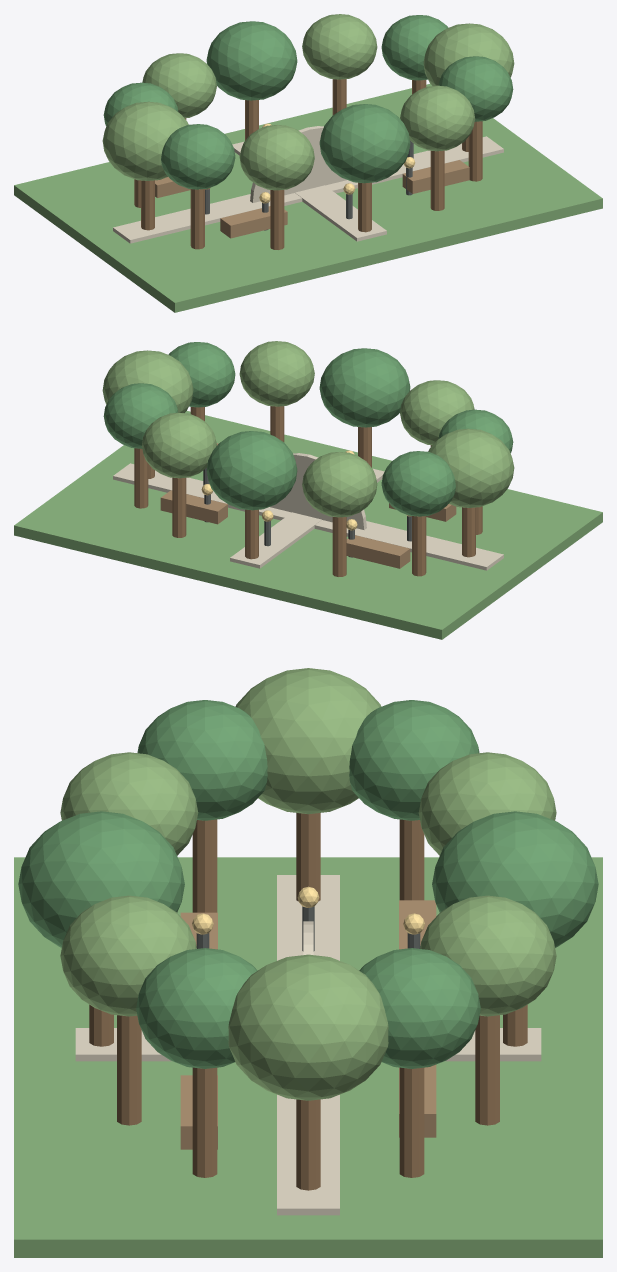
File: central-park.glb
The picture shows the model from 3 angles, top to bottom: view 1: azimuth 30°, elevation 25°; view 2: azimuth 150°, elevation 25°; view 3: azimuth 270°, elevation 25°; orthographic projection. The views are drawn at different scales.
Parts seen in each view (by area): view 1: world, lawn, main_path, cross_path, trunk5, trunk2, trunk4, trunk1, trunk6, trunk3, trunk10, trunk9; view 2: world, lawn, main_path, cross_path, trunk7, trunk8, trunk10, trunk11, trunk6, trunk9, trunk2, trunk3; view 3: world, lawn, main_path, cross_path, trunk1, trunk11, trunk2, trunk10, trunk5, trunk0, trunk7, trunk6 (+2 smaller).
Part boxes in pixels (x1=…): world: x1=102, y1=14, x2=514, y2=238; lawn: x1=14, y1=84, x2=602, y2=312; main_path: x1=113, y1=136, x2=503, y2=243; cross_path: x1=232, y1=141, x2=386, y2=241; trunk5: x1=190, y1=189, x2=204, y2=249; trunk2: x1=430, y1=150, x2=444, y2=210; trunk4: x1=270, y1=190, x2=284, y2=249; trunk1: x1=468, y1=121, x2=482, y2=181; trunk6: x1=141, y1=180, x2=154, y2=230; trunk3: x1=358, y1=182, x2=371, y2=232; trunk10: x1=332, y1=79, x2=346, y2=114; trunk9: x1=245, y1=100, x2=258, y2=140; world: x1=102, y1=341, x2=514, y2=568; lawn: x1=14, y1=411, x2=602, y2=639; main_path: x1=113, y1=463, x2=503, y2=570; cross_path: x1=230, y1=468, x2=384, y2=568; trunk7: x1=412, y1=516, x2=426, y2=576; trunk8: x1=332, y1=517, x2=346, y2=576; trunk10: x1=172, y1=477, x2=186, y2=537; trunk11: x1=134, y1=448, x2=148, y2=508; trunk6: x1=462, y1=507, x2=475, y2=557; trunk9: x1=245, y1=509, x2=258, y2=559; trunk2: x1=270, y1=406, x2=284, y2=441; trunk3: x1=358, y1=427, x2=371, y2=467; world: x1=18, y1=668, x2=598, y2=1149; lawn: x1=14, y1=857, x2=602, y2=1257; main_path: x1=277, y1=875, x2=339, y2=1215; cross_path: x1=75, y1=1028, x2=541, y2=1061; trunk1: x1=192, y1=1067, x2=217, y2=1177; trunk11: x1=399, y1=1067, x2=424, y2=1177; trunk2: x1=117, y1=1015, x2=141, y2=1125; trunk10: x1=475, y1=1015, x2=499, y2=1125; trunk5: x1=192, y1=819, x2=217, y2=912; trunk0: x1=296, y1=1099, x2=320, y2=1190; trunk7: x1=399, y1=819, x2=424, y2=900; trunk6: x1=296, y1=813, x2=320, y2=901.
Bounding box in the file's own units: 3.15 × 1.27 × 2.05.
